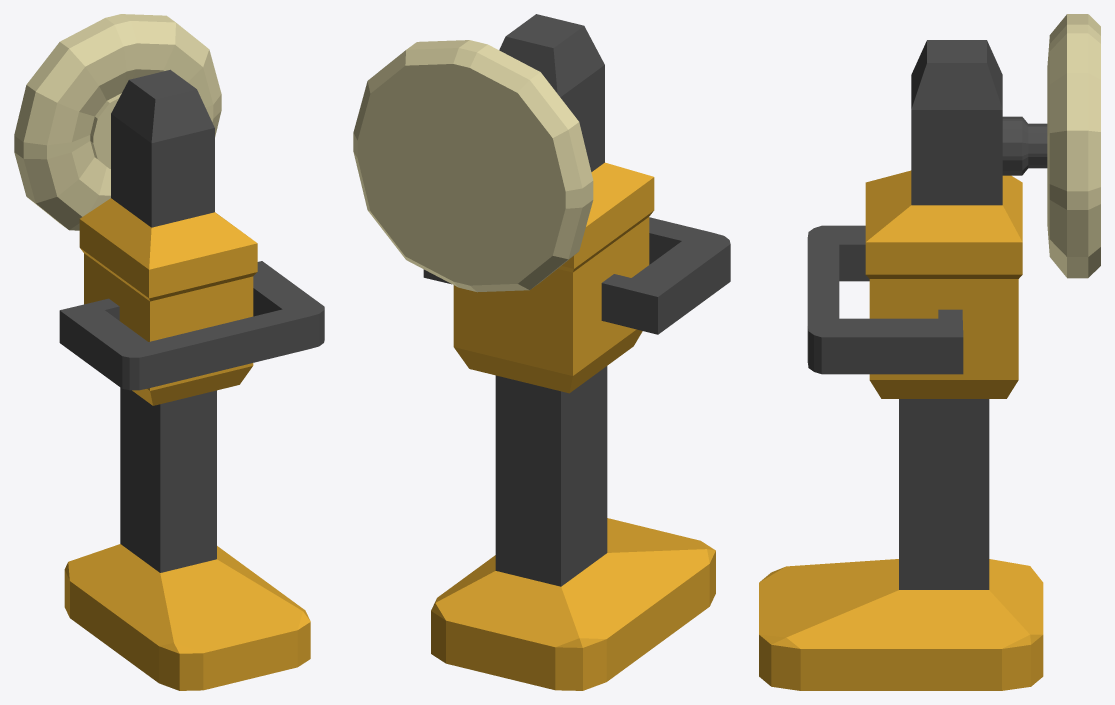
3 views of the same model, side by side, from view 1: azimuth 30°, elevation 25°; view 2: azimuth 150°, elevation 25°; view 3: azimuth 270°, elevation 25° (orthographic). The views are drawn at different scales.
Parts seen in each view (by area): view 1: F-39; view 2: F-39; view 3: F-39.
Boxes of the visible parts, x1=… form: F-39: x1=14, y1=14, x2=324, y2=690; F-39: x1=353, y1=14, x2=730, y2=690; F-39: x1=759, y1=14, x2=1100, y2=690.
Bounding box in the file's own units: 34.77 × 88.56 × 43.8.
